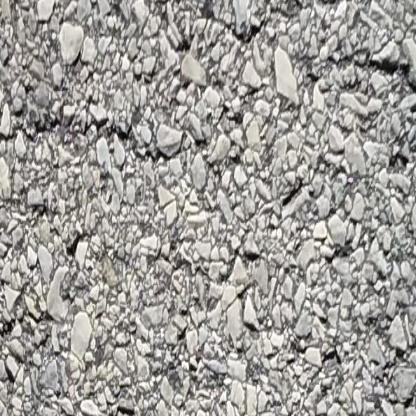Cracks: (364, 58, 416, 121), (59, 404, 153, 416), (0, 314, 8, 344)
